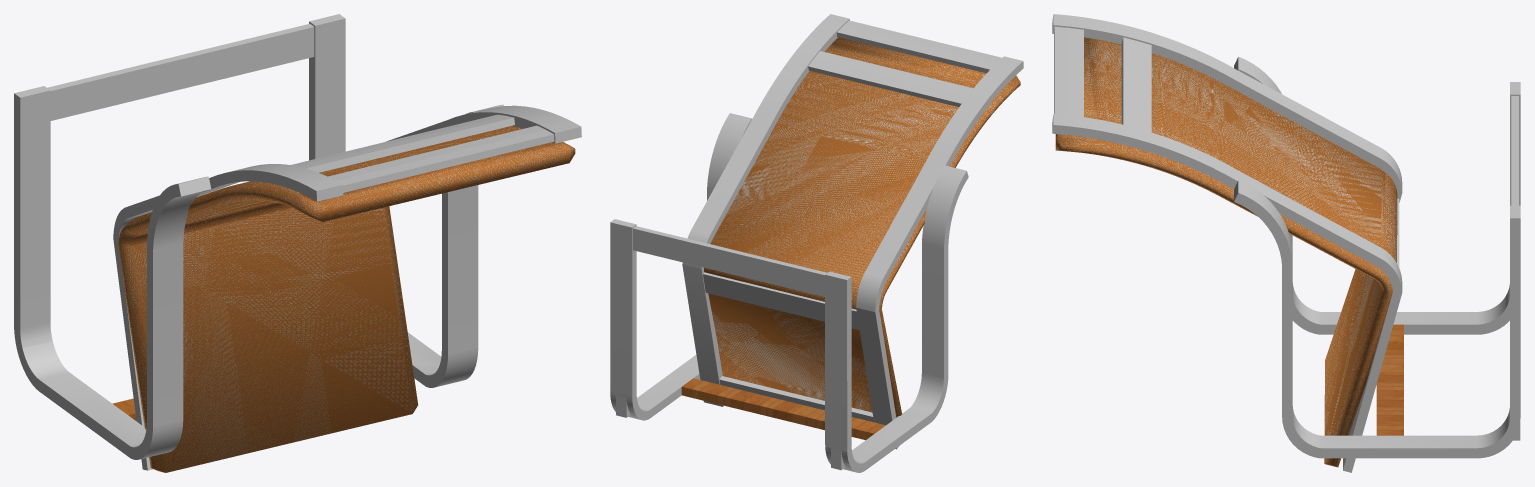
Rendered from tv_chair.obj.
3 renders of one model, left to right at view 1: azimuth 30°, elevation 25°; view 2: azimuth 150°, elevation 25°; view 3: azimuth 270°, elevation 25°, orthographic. The views are drawn at different scales.
Visible parts, largest first — view 1: tv_chair1d01d01d0; view 2: tv_chair1d01d01d0; view 3: tv_chair1d01d01d0.
Part boxes in pixels (<box>): tv_chair1d01d01d0: <box>14,14,581,472</box>; tv_chair1d01d01d0: <box>610,14,1023,472</box>; tv_chair1d01d01d0: <box>1052,14,1520,472</box>.
Size of the model in its own units: 0.6801 by 0.8105 by 0.9877.
